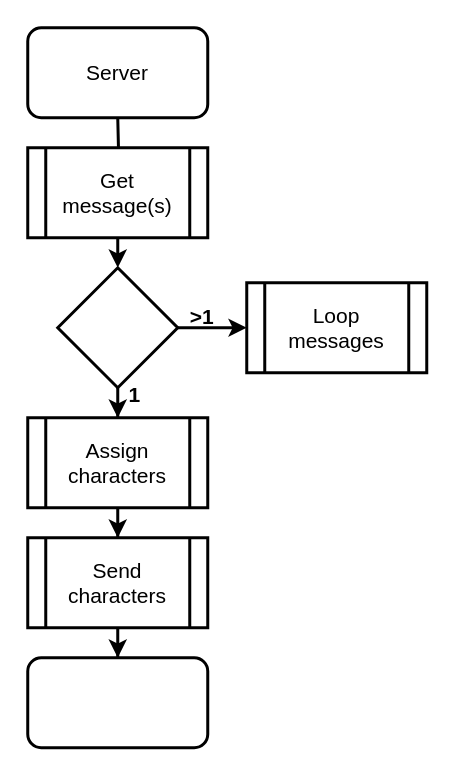
The diagram is 453 pixels wide and 774 high, and some of its shapes have lost their labels. Here are the shapes that lost their labels. From the top down, the centre of each, then its label:
At (117,327): "Messages?".
At (117,702): "End".
